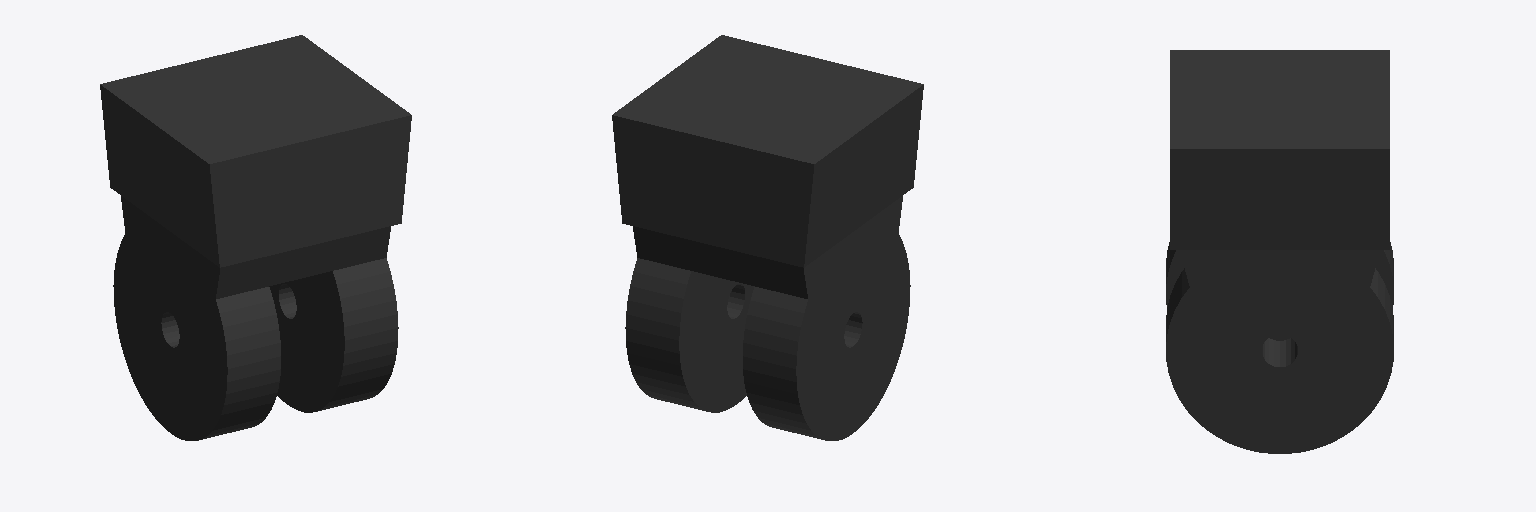
3 views of the same model, side by side, from view 1: azimuth 30°, elevation 25°; view 2: azimuth 150°, elevation 25°; view 3: azimuth 270°, elevation 25° (orthographic).
Visible parts, largest first — view 1: Bryła1:4; view 2: Bryła1:4; view 3: Bryła1:4.
Part boxes in pixels (x1,y1,x2,y2): Bryła1:4: (100,35,411,440); Bryła1:4: (612,35,923,440); Bryła1:4: (1166,50,1393,453).
Bounding box in the file's own units: 81.28 × 120 × 79.36.